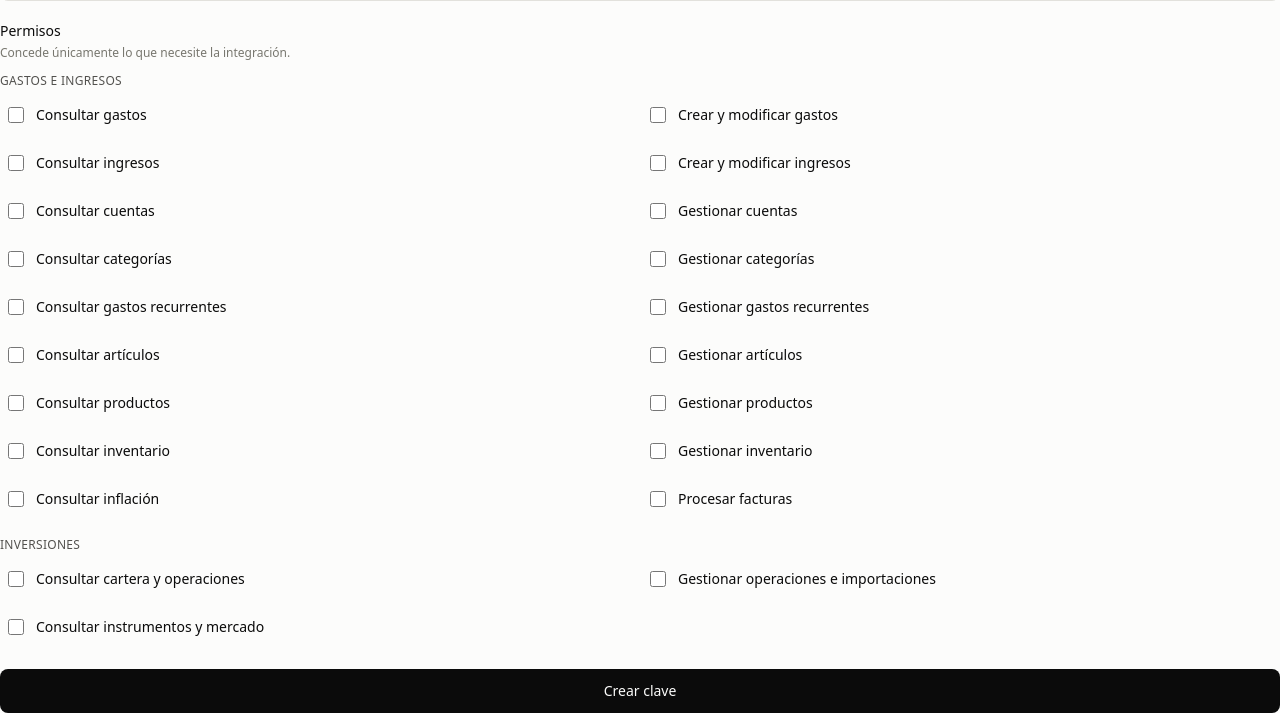
ApiKeyForm › exige nombre y al menos un permiso
The image size is (1280, 713).
(page scrolled)
Click the button "Crear clave".
click(640, 691)  # box x1=0 y1=669 x2=1279 y2=712
(page scrolled)
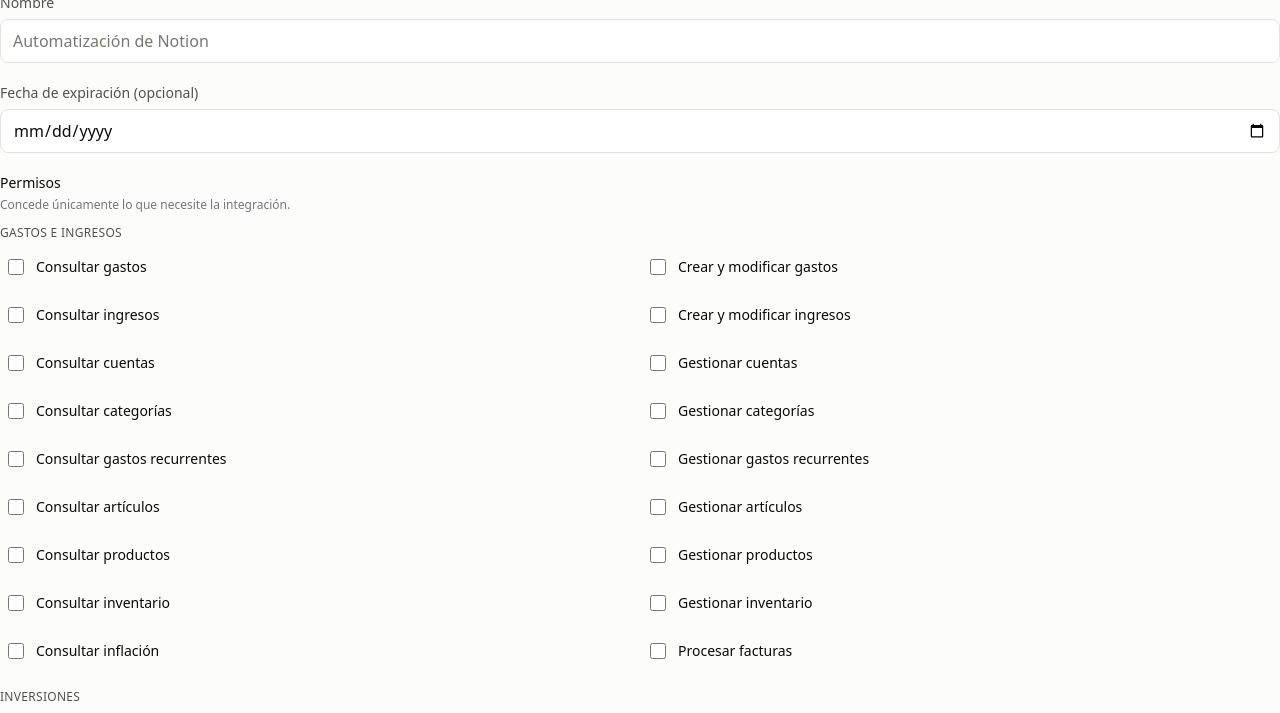
Type "Integración contable" into the field labelled "Nombre".
click(640, 41); type("Integración contable")  # box x1=0 y1=19 x2=1279 y2=63
(page scrolled)
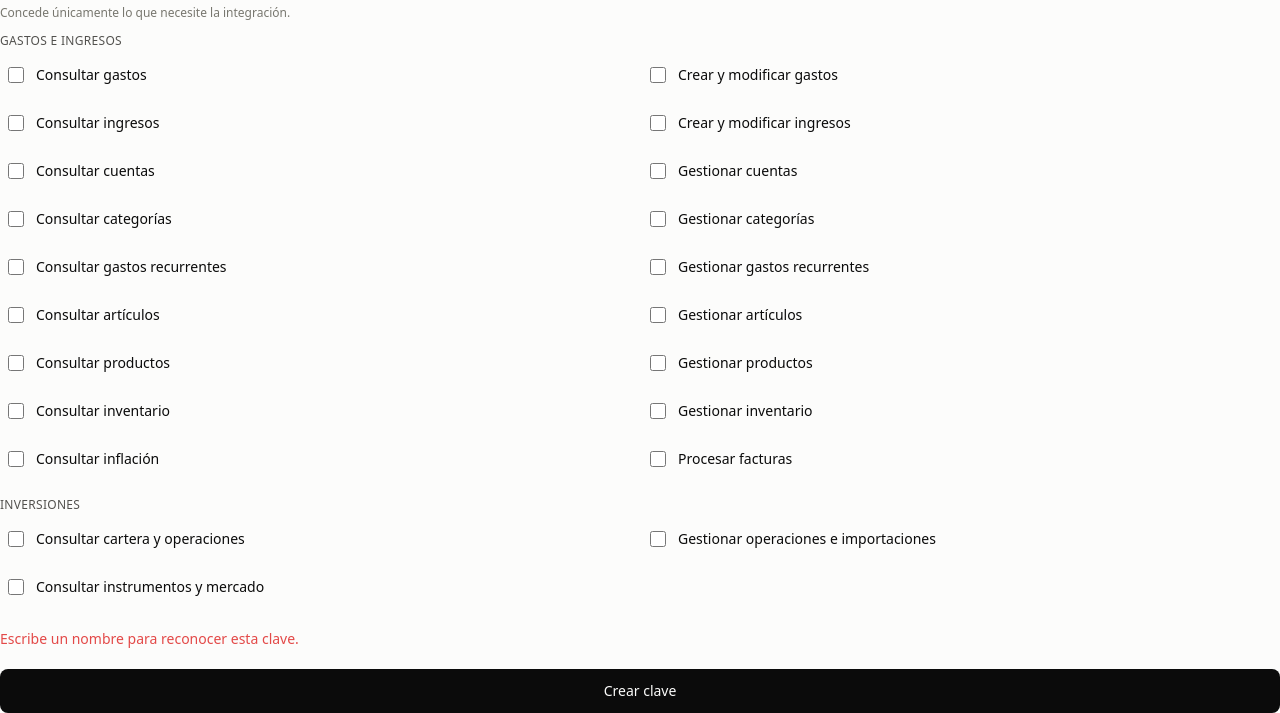
Click the button "Crear clave".
click(640, 691)  # box x1=0 y1=669 x2=1279 y2=712
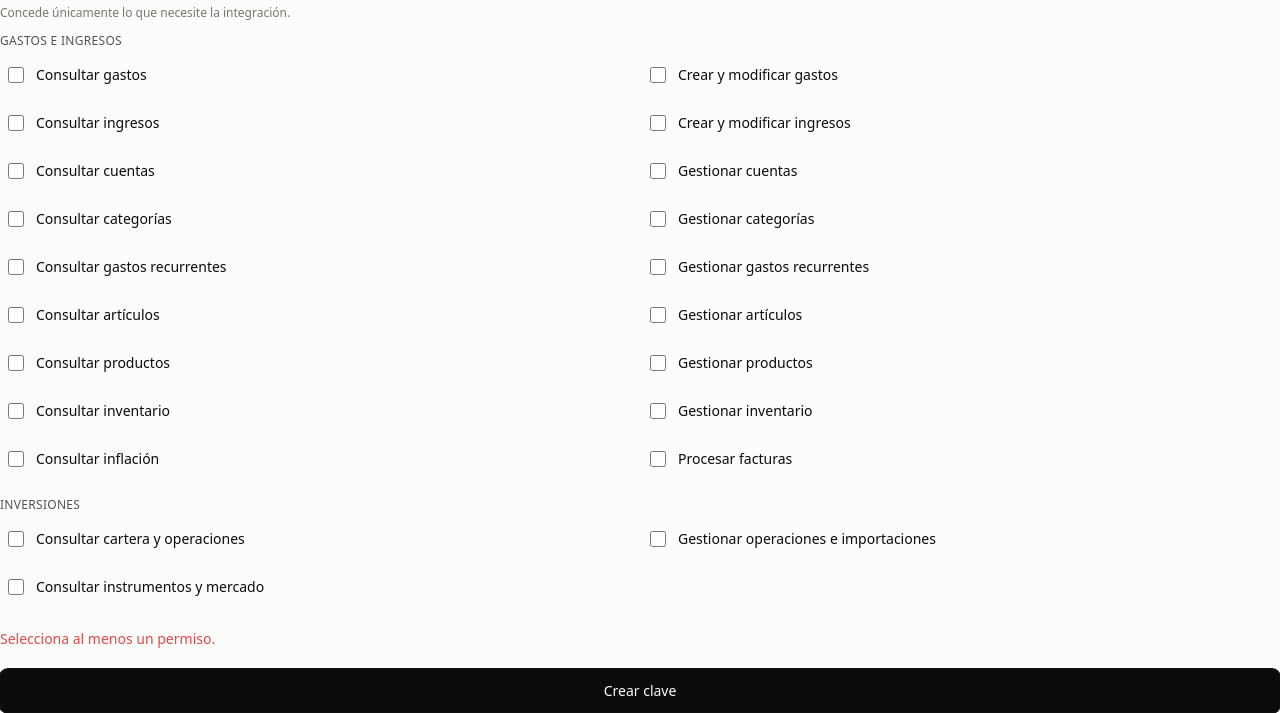
Check: the message reads "Selecciona al menos un permiso.", box x1=0 y1=629 x2=215 y2=648
